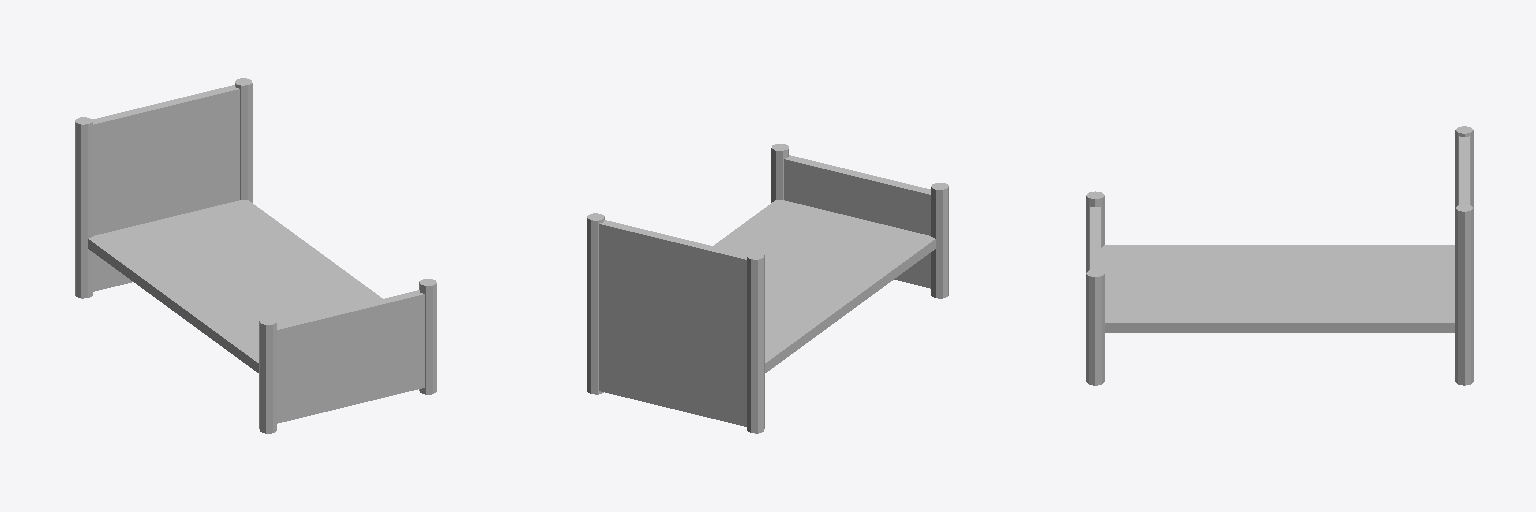
File: BedFrame.obj
3 views of the same model, side by side, from view 1: azimuth 30°, elevation 25°; view 2: azimuth 150°, elevation 25°; view 3: azimuth 270°, elevation 25° (orthographic).
Visible parts, largest first — view 1: BedFrame; view 2: BedFrame; view 3: BedFrame.
Part boxes in pixels (x1,y1,x2,y2): BedFrame: (75, 78, 436, 433); BedFrame: (587, 144, 948, 433); BedFrame: (1086, 126, 1473, 385).
Size of the model in its own units: 2.2 by 2.08 by 4.2.